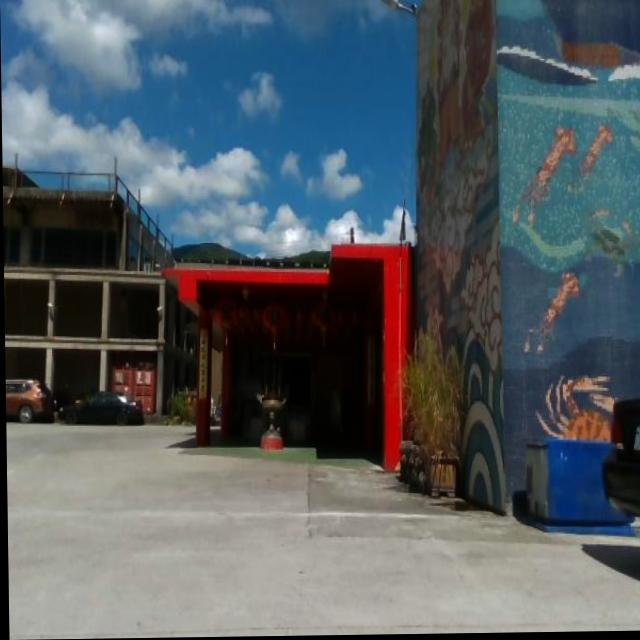pollute: (210, 397, 220, 429)
